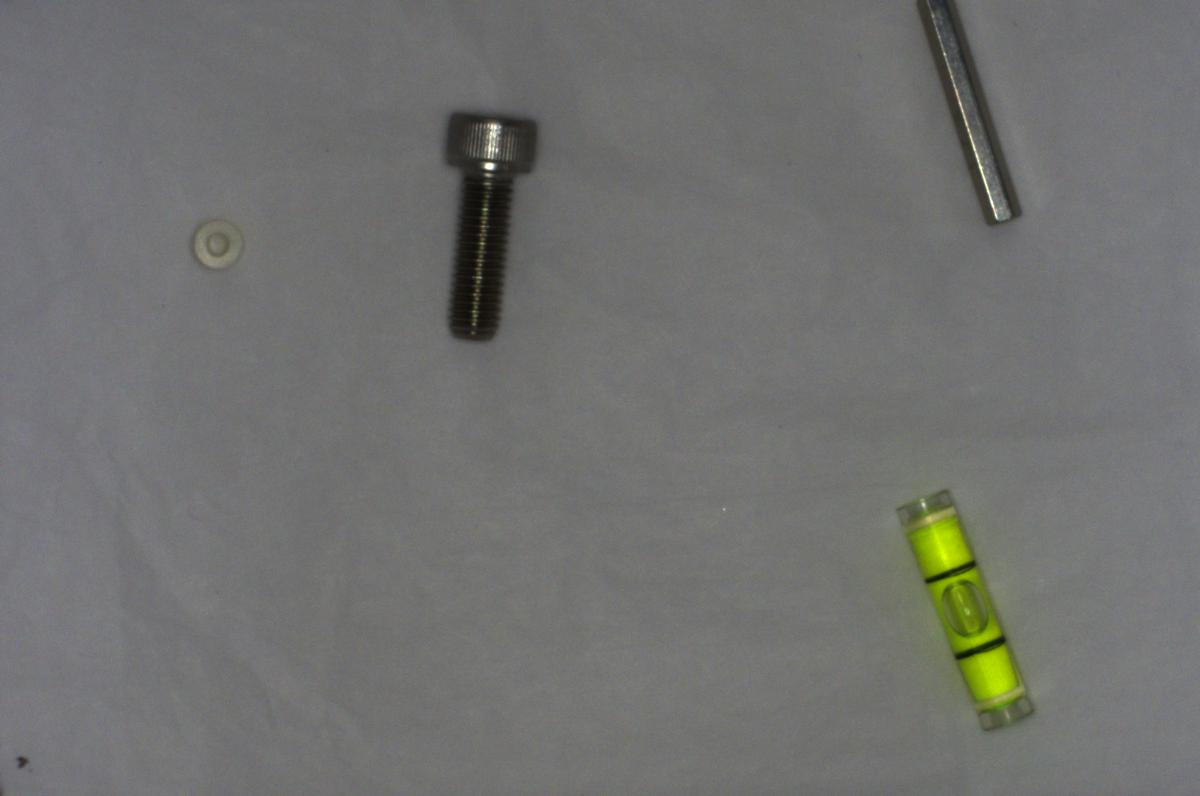Double hexagonal column: (908, 15, 1032, 236)
Hexagon screw: (434, 107, 533, 346)
Horizontal bubble: (894, 482, 1040, 735)
Plastic cushion pillar: (181, 210, 247, 279)
